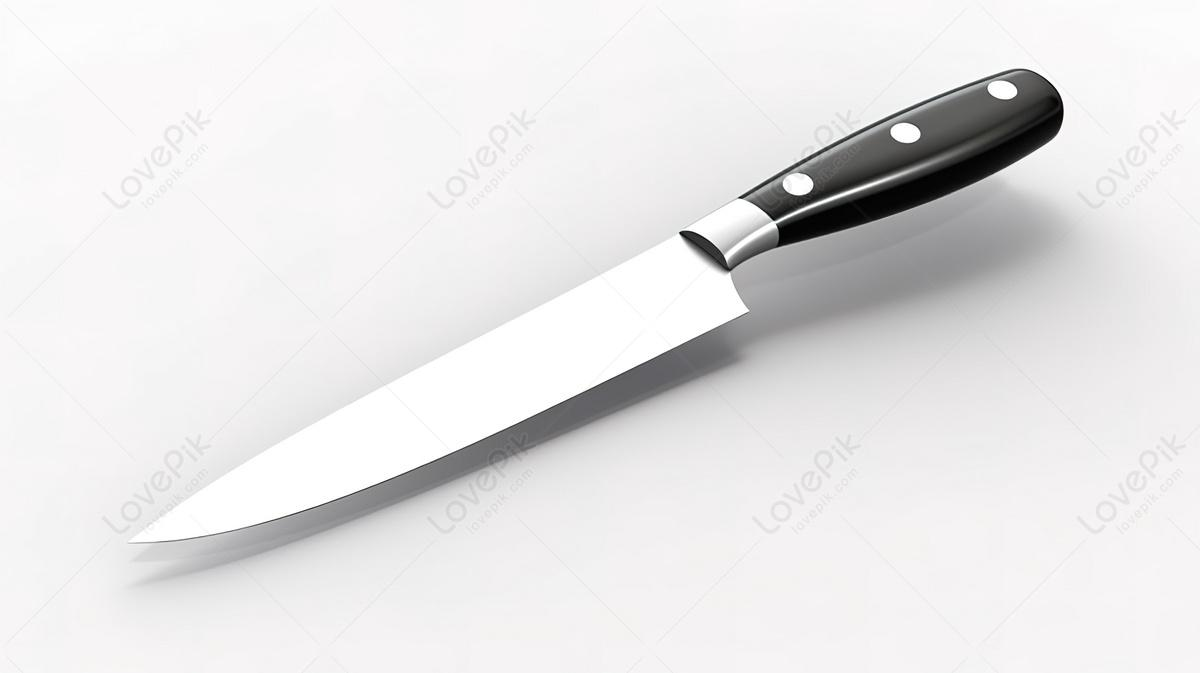Knife: (126, 65, 1063, 563)
